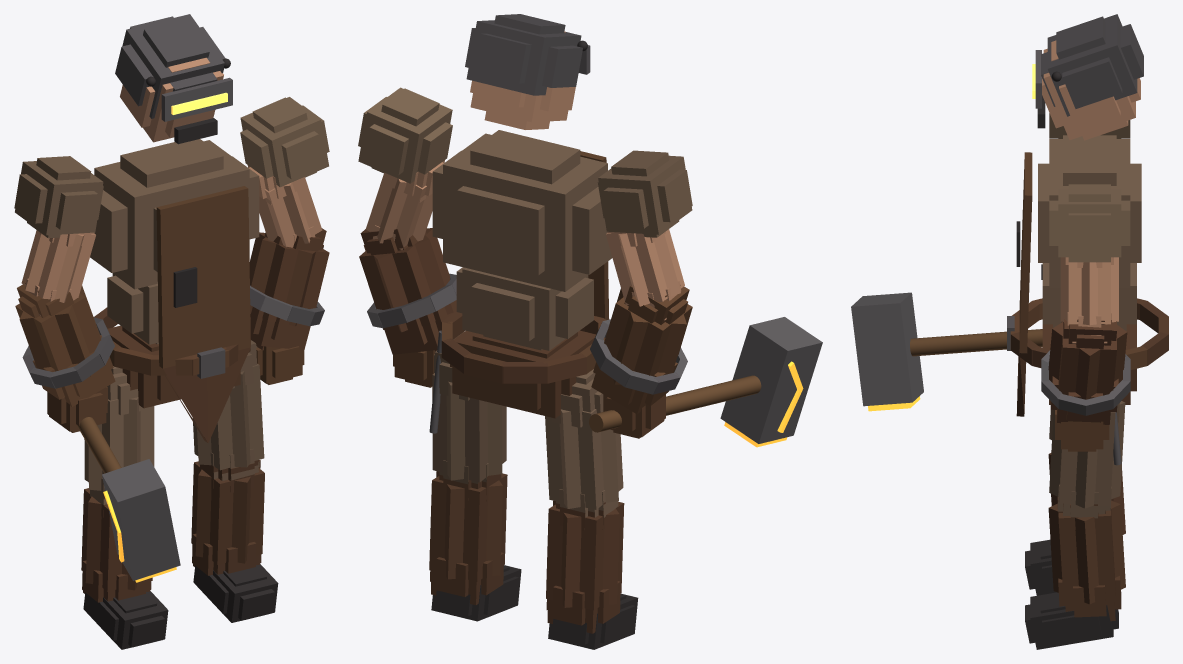
3 renders of one model, left to right at view 1: azimuth 30°, elevation 25°; view 2: azimuth 150°, elevation 25°; view 3: azimuth 270°, elevation 25°, orthographic. The views are drawn at different scales.
Visible parts, largest first — view 1: ForgeSquire; view 2: ForgeSquire; view 3: ForgeSquire.
Boxes of the visible parts, x1,y1,x2,y2 form: ForgeSquire: [14, 14, 329, 649]; ForgeSquire: [358, 14, 822, 649]; ForgeSquire: [851, 14, 1168, 649].
Bounding box in the file's own units: 0.8139 × 1.42 × 0.6982.
